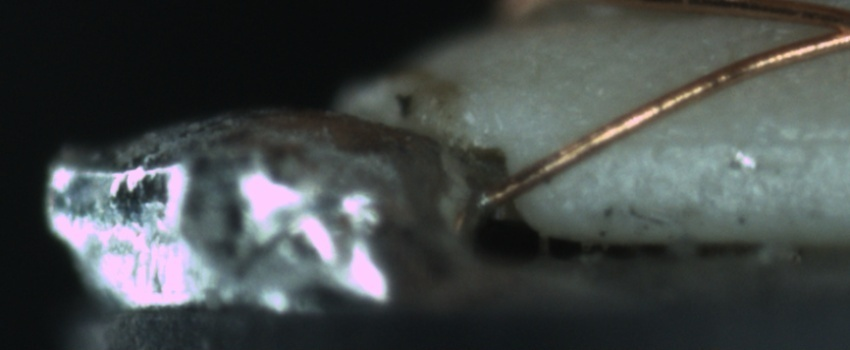DL: (619, 112, 850, 170)
